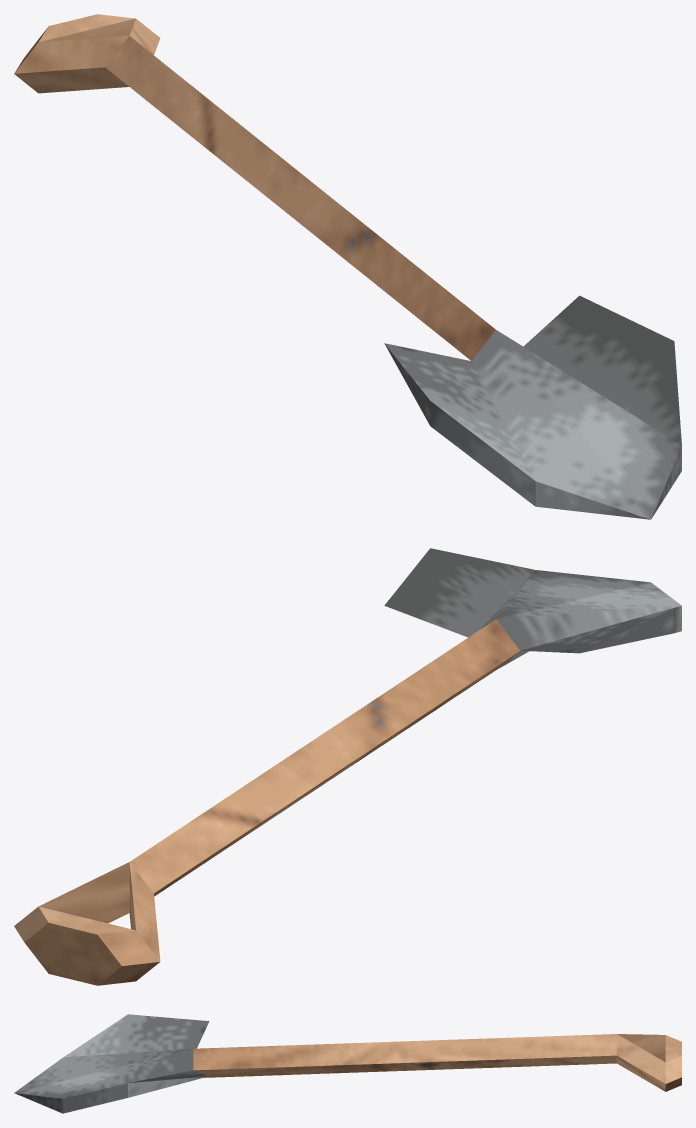
File: Shovel.obj
The picture shows the model from 3 angles, top to bottom: view 1: azimuth 30°, elevation 25°; view 2: azimuth 150°, elevation 25°; view 3: azimuth 270°, elevation 25°; orthographic projection. The views are drawn at different scales.
Visible parts, largest first — view 1: Shovel; view 2: Shovel; view 3: Shovel.
Boxes of the visible parts, bbox=[...] form: Shovel: bbox=[14, 14, 681, 519]; Shovel: bbox=[14, 548, 681, 985]; Shovel: bbox=[14, 1014, 681, 1113].
Bounding box in the file's own units: 1 × 0.4 × 4.1.
